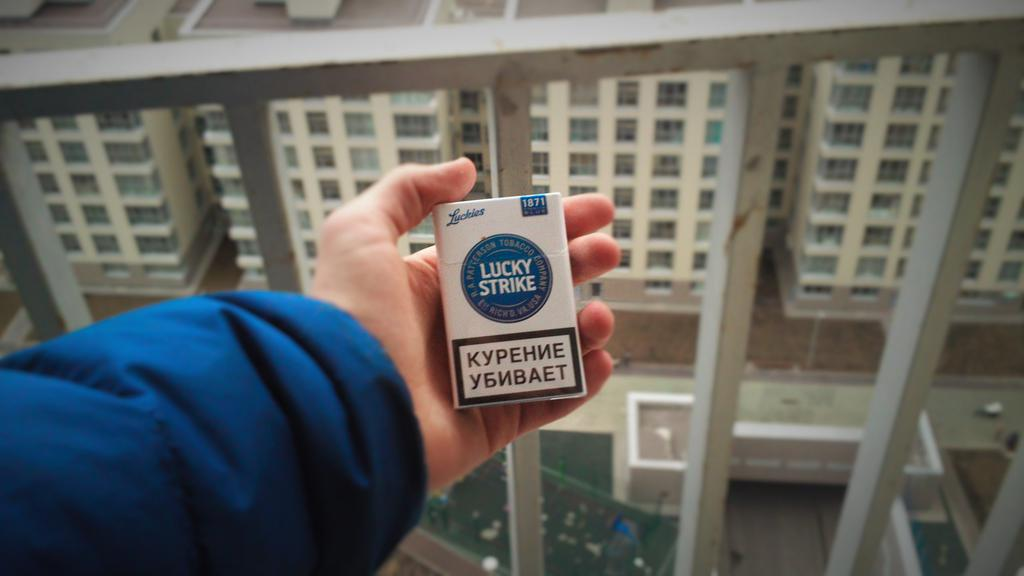lucky_strike_blue: (453, 198, 569, 398)
